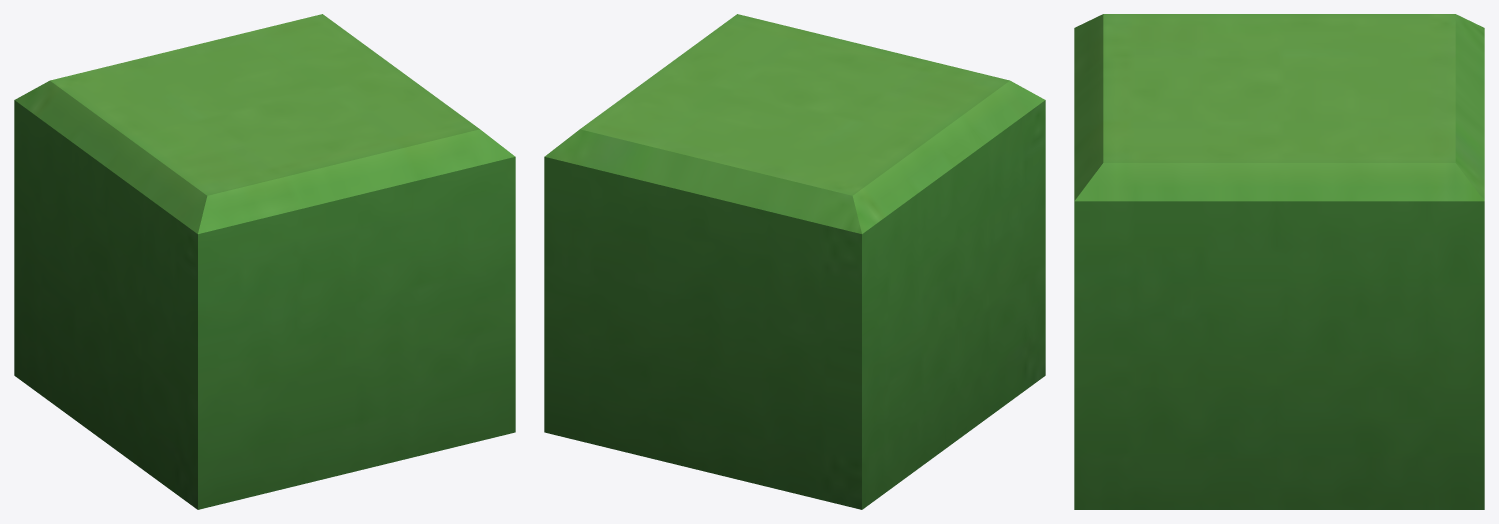
File: jelly.glb
3 renders of one model, left to right at view 1: azimuth 30°, elevation 25°; view 2: azimuth 150°, elevation 25°; view 3: azimuth 270°, elevation 25°, orthographic. The views are drawn at different scales.
Parts seen in each view (by area): view 1: jelly; view 2: jelly; view 3: jelly.
Part boxes in pixels (left/top/right/bottom): jelly: left=14, top=14, right=515, bottom=509; jelly: left=544, top=14, right=1045, bottom=509; jelly: left=1074, top=14, right=1484, bottom=509.
Size of the model in its own units: 0.17 by 0.153 by 0.17.
Materials: 1 (1 with a texture image).
